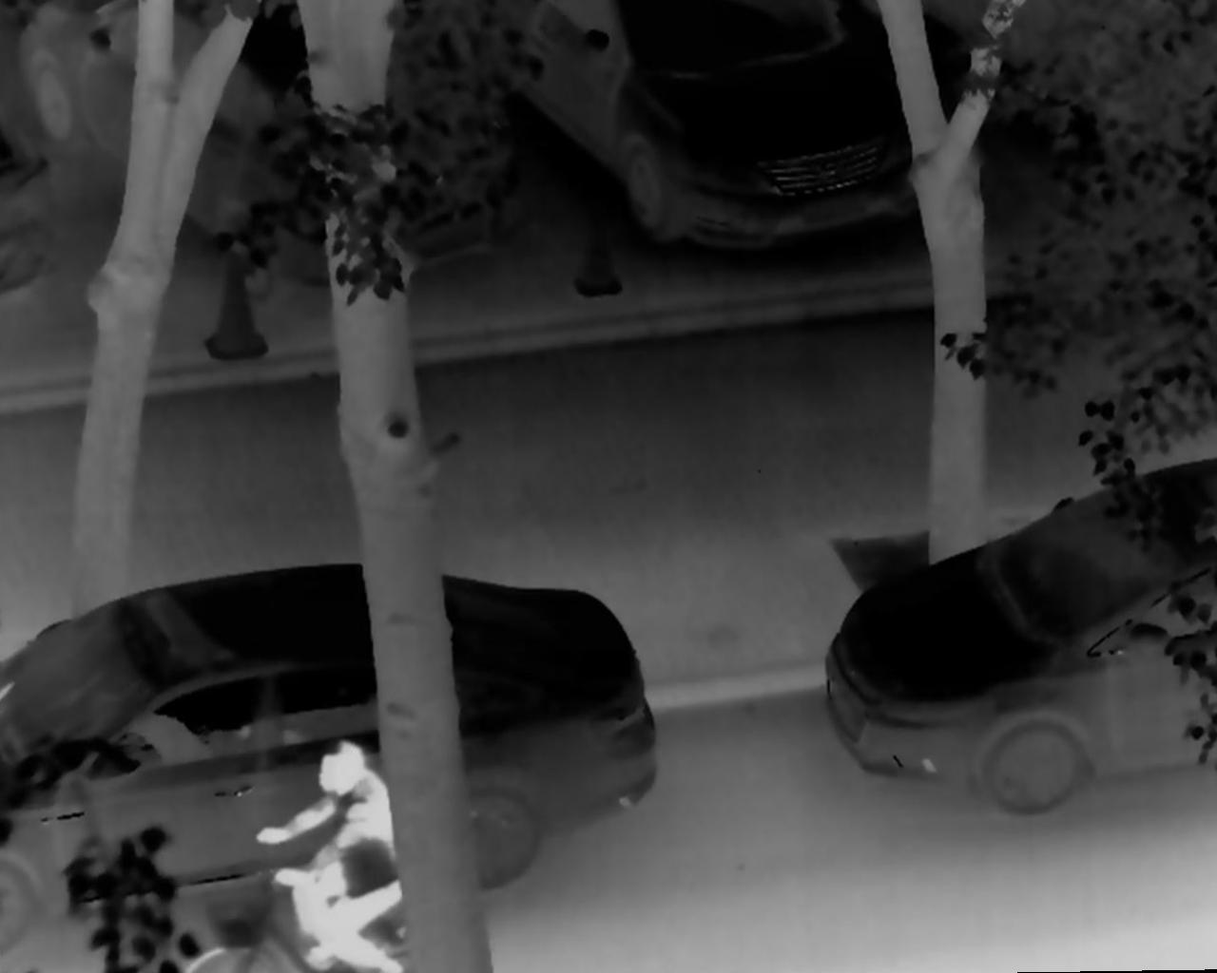person: (256, 735, 414, 973)
